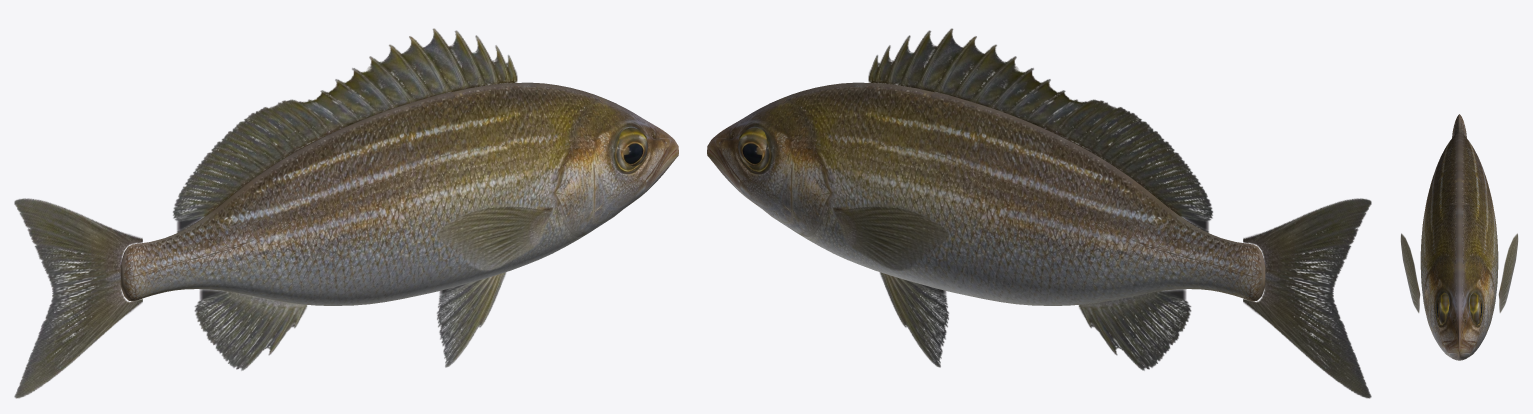
Rendered from isaki_young.glb.
The picture shows the model from 3 angles, left to right: view 1: azimuth 30°, elevation 25°; view 2: azimuth 150°, elevation 25°; view 3: azimuth 270°, elevation 25°; orthographic projection. The views are drawn at different scales.
Visible parts, largest first — view 1: isaki_young; view 2: isaki_young; view 3: isaki_young.
Boxes of the visible parts, x1,y1,x2,y2 form: isaki_young: (14, 28, 678, 398); isaki_young: (707, 28, 1371, 398); isaki_young: (1400, 114, 1518, 360).
Bounding box in the file's own units: 0.2504 × 0.1233 × 0.0503.
Materials: 1 (1 with a texture image).
